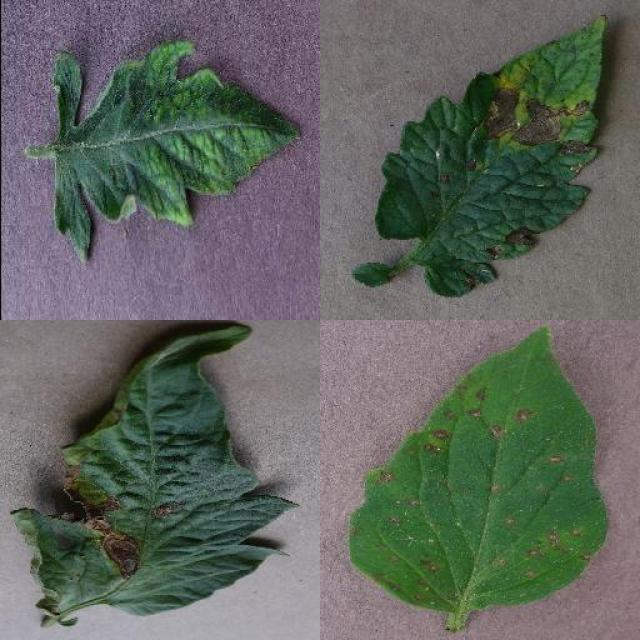Early Blight: (12, 323, 302, 618), (375, 15, 607, 295)
Septoria: (348, 329, 612, 611)
